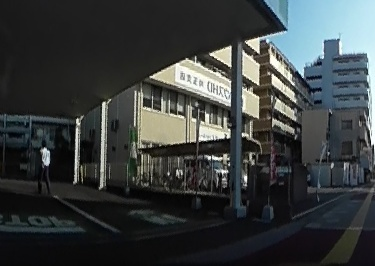person: (35, 135, 54, 191)
